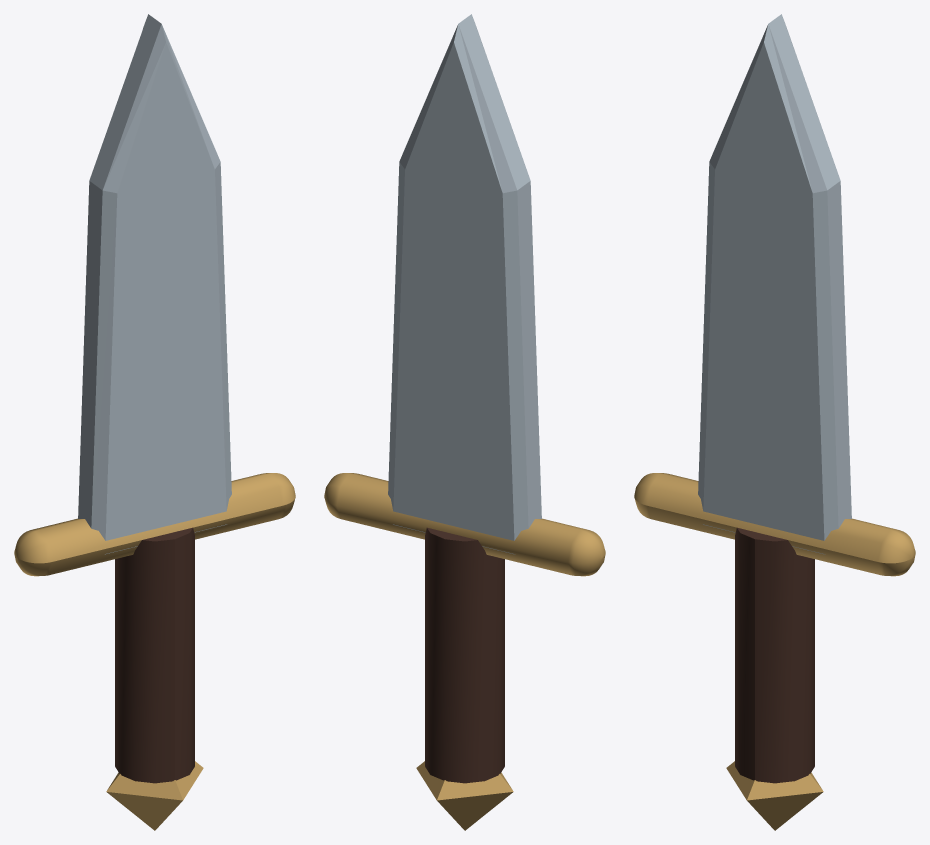
Rendered from dagger.glb.
3 renders of one model, left to right at view 1: azimuth 30°, elevation 25°; view 2: azimuth 150°, elevation 25°; view 3: azimuth 330°, elevation 25°, orthographic.
Visible parts, largest first — view 1: dagger_metal, dagger_wood, dagger_gold; view 2: dagger_metal, dagger_wood, dagger_gold; view 3: dagger_metal, dagger_wood, dagger_gold.
Boxes of the visible parts, x1,y1,x2,y2 form: dagger_metal: (78, 14, 231, 554); dagger_wood: (115, 527, 194, 783); dagger_gold: (14, 473, 295, 830); dagger_metal: (388, 14, 541, 554); dagger_wood: (425, 527, 504, 783); dagger_gold: (324, 473, 605, 830); dagger_metal: (698, 14, 851, 554); dagger_wood: (735, 527, 814, 783); dagger_gold: (634, 473, 915, 830).
Bounding box in the file's own units: 0.214 × 0.6043 × 0.076.
